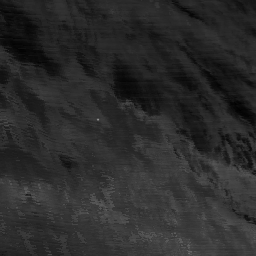Target: (94, 116, 99, 123)
